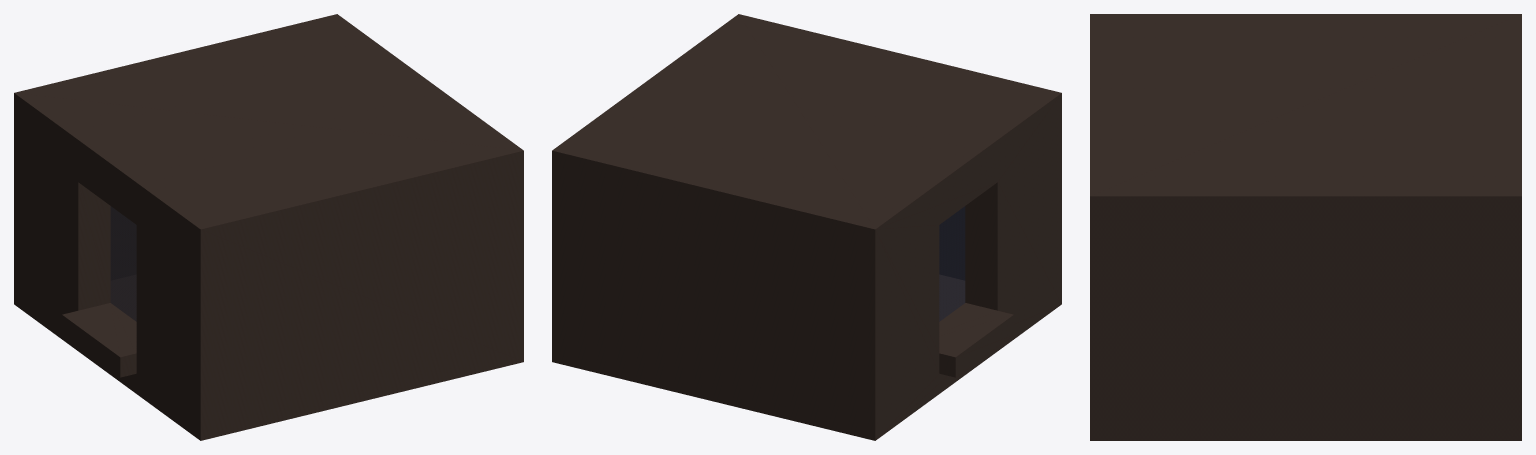
File: modularBuildings_047.obj
3 renders of one model, left to right at view 1: azimuth 30°, elevation 25°; view 2: azimuth 150°, elevation 25°; view 3: azimuth 270°, elevation 25°, orthographic. The views are drawn at different scales.
Visible parts, largest first — view 1: Mesh1 Group1 Model; view 2: Mesh1 Group1 Model; view 3: Mesh1 Group1 Model.
Boxes of the visible parts, x1,y1,x2,y2 form: Mesh1 Group1 Model: (14, 14, 523, 440); Mesh1 Group1 Model: (552, 14, 1061, 440); Mesh1 Group1 Model: (1090, 14, 1521, 440).
Bounding box in the file's own units: 1.05 × 0.625 × 1.
2 materials, 2 textured.
